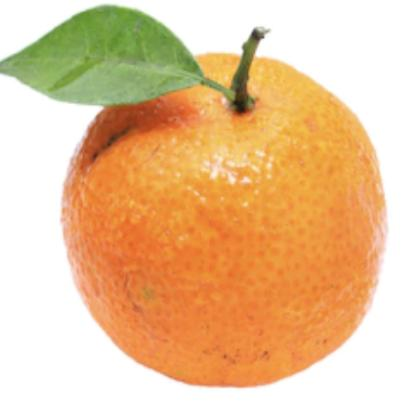fresh: (62, 42, 381, 389)
